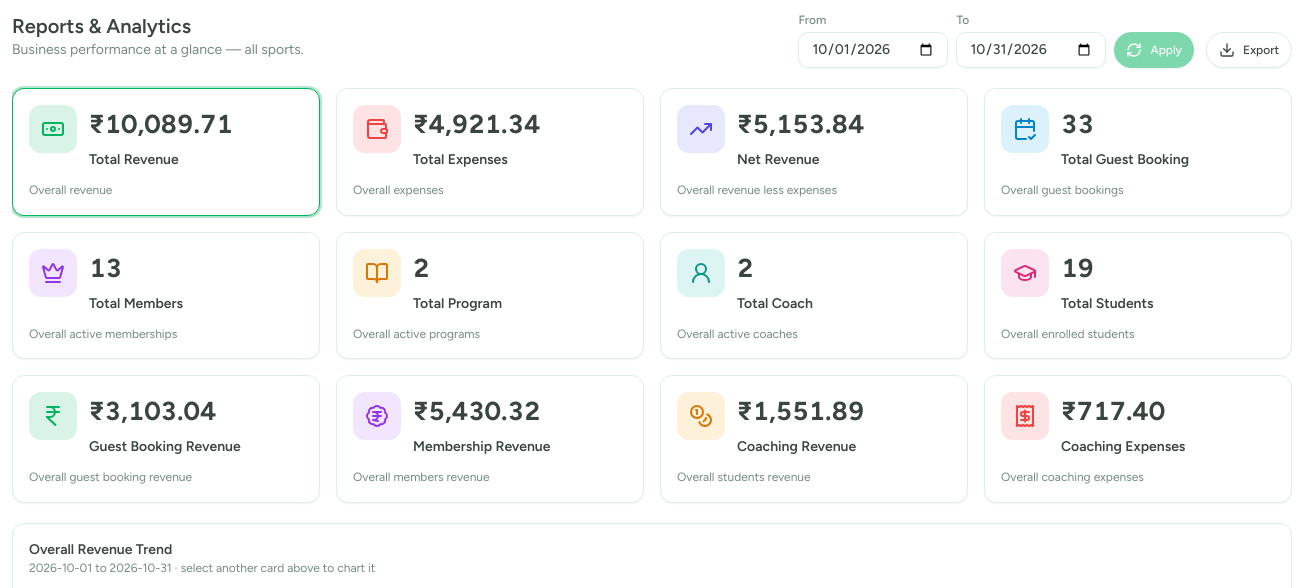
ReportsOverview › charts Overall Revenue by default, and switches the chart and its heading when another card is tapped
Expected: the heading "Overall Revenue Trend" is shown, [29,540,172,558]
Click the button "13 Total Members Overall active memberships": (166, 295) [12,232,320,359]
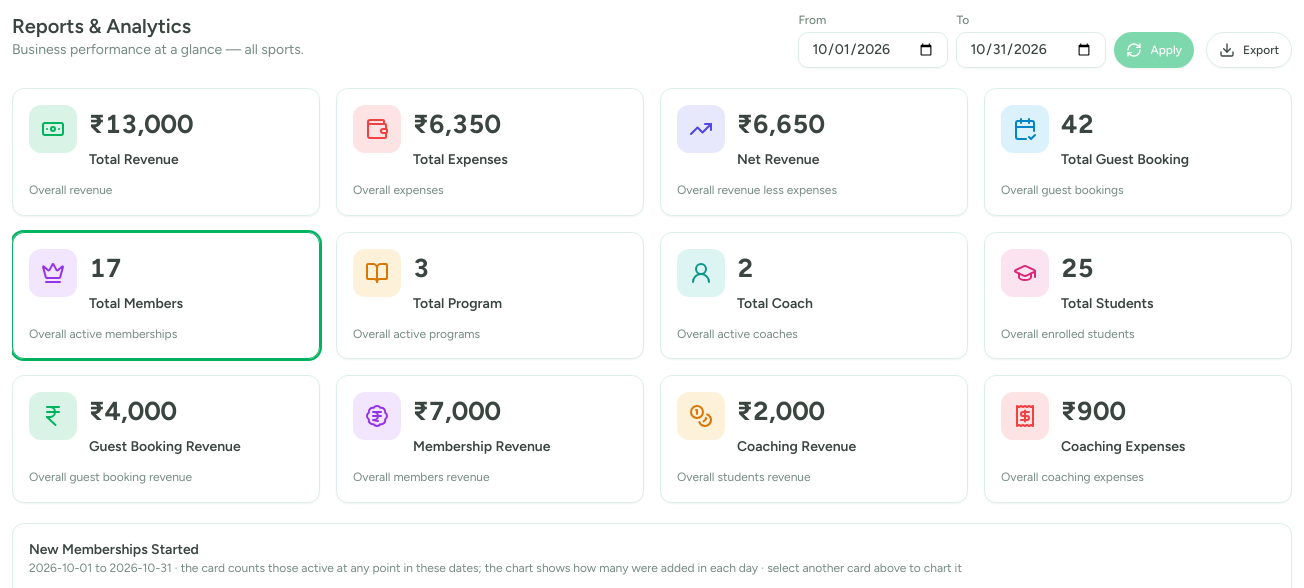
Result: the heading "New Memberships Started" is shown at [29,540,199,558]
Click the button "₹900 Coaching Expenses Overall coaching expenses": (1138, 439) [984,375,1292,502]
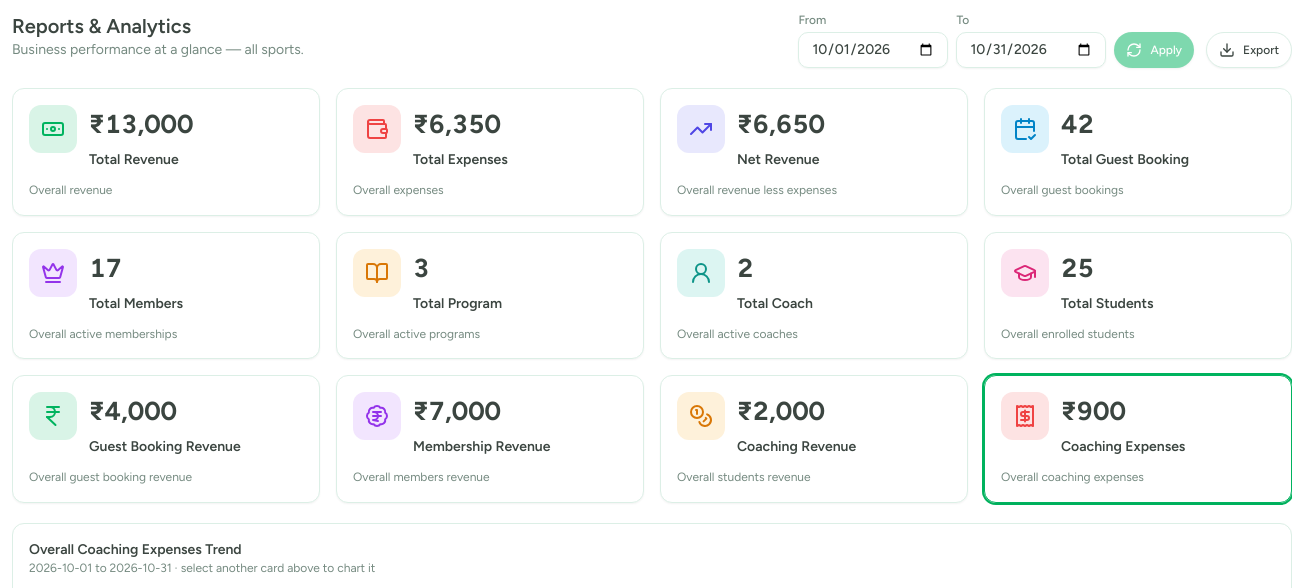
Result: the heading "Overall Coaching Expenses Trend" is shown at [29,540,242,558]
